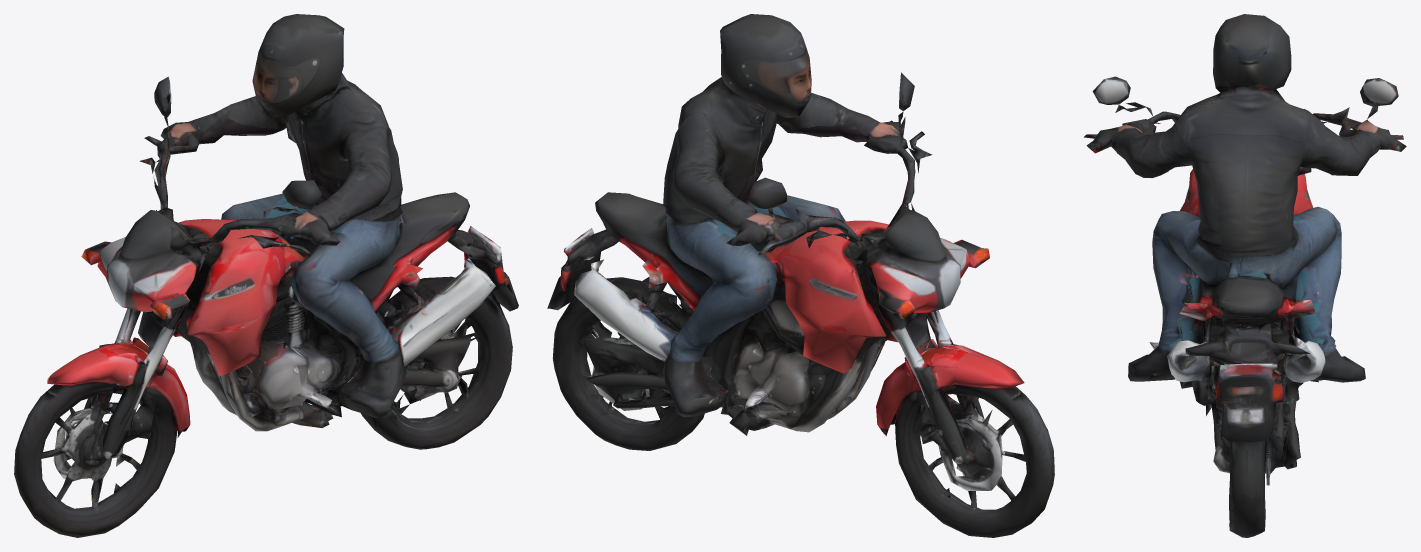
The model's file is Motorcycle.fbx.
3 views of the same model, side by side, from view 1: azimuth 30°, elevation 25°; view 2: azimuth 150°, elevation 25°; view 3: azimuth 270°, elevation 25° (orthographic). The views are drawn at different scales.
Visible parts, largest first — view 1: Motorcycle; view 2: Motorcycle; view 3: Motorcycle.
Boxes of the visible parts, bbox=[...] form: Motorcycle: bbox=[14, 14, 518, 537]; Motorcycle: bbox=[547, 14, 1054, 537]; Motorcycle: bbox=[1084, 14, 1406, 537].
Bounding box in the file's own units: 168 × 150 × 96.96.
Materials: 1 (1 with a texture image).
